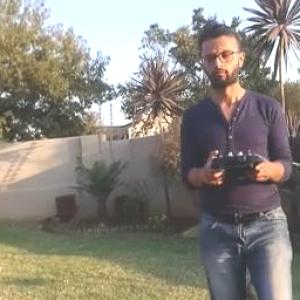follow: (183, 23, 299, 299)
